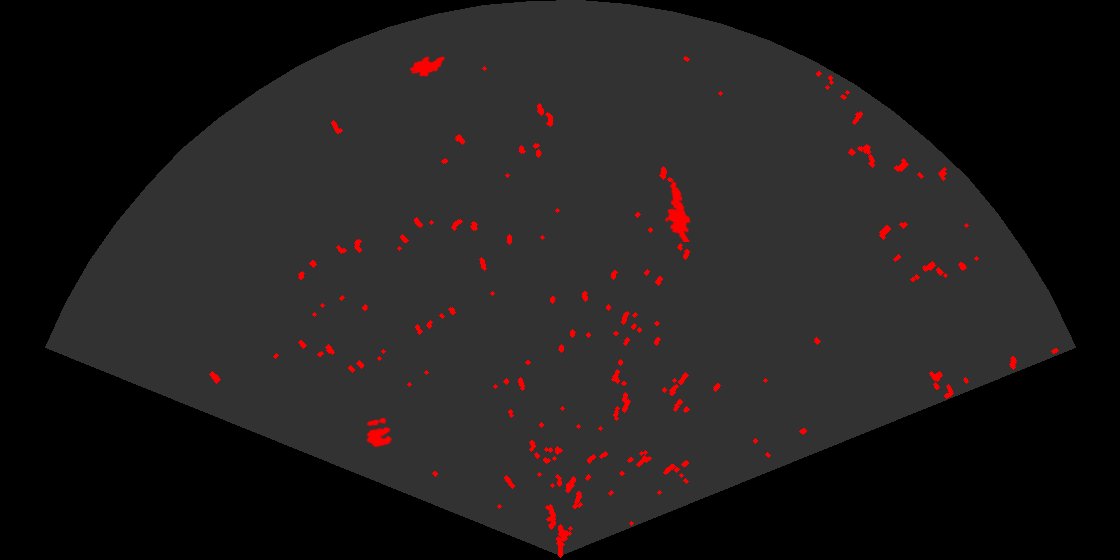AUV: (408, 55, 447, 78)
ball: (365, 416, 394, 449)
frogman: (663, 180, 692, 242)
